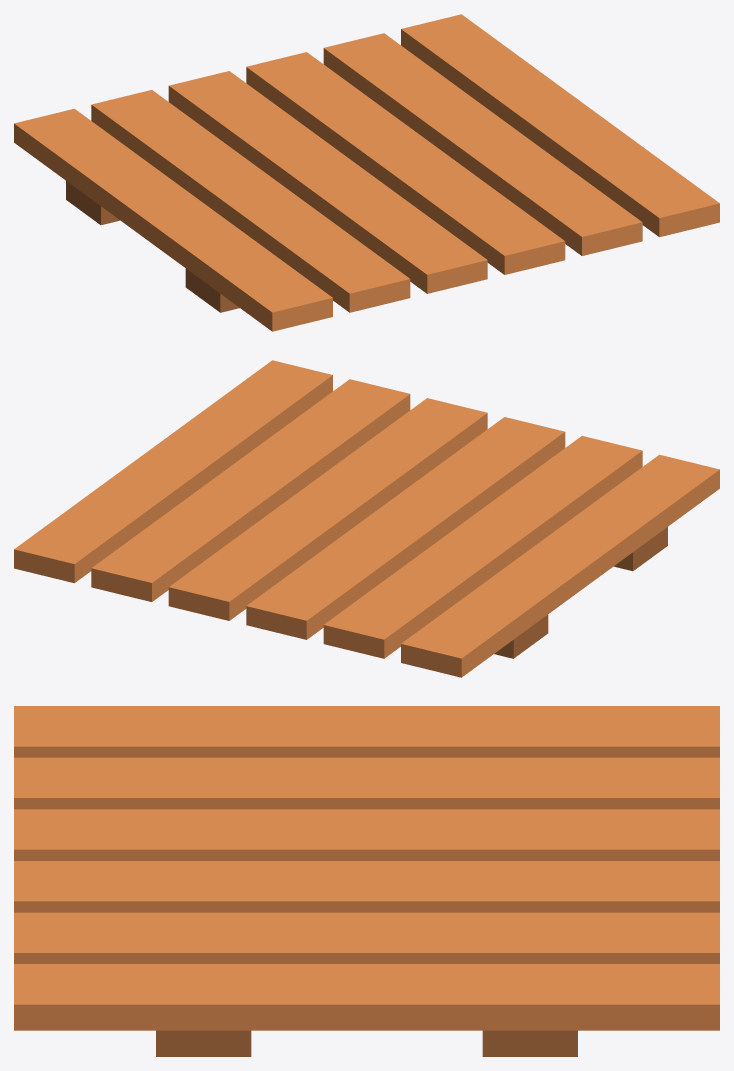
File: floor.fbx
3 views of the same model, one above another, from view 1: azimuth 30°, elevation 25°; view 2: azimuth 150°, elevation 25°; view 3: azimuth 270°, elevation 25° (orthographic). The views are drawn at different scales.
Parts seen in each view (by area): view 1: floor; view 2: floor; view 3: floor.
Boxes of the visible parts, x1,y1,x2,y2 form: floor: [14, 14, 719, 331]; floor: [14, 360, 719, 677]; floor: [14, 706, 719, 1056].
Bounding box in the file's own units: 19.26 × 1.57 × 19.26.
